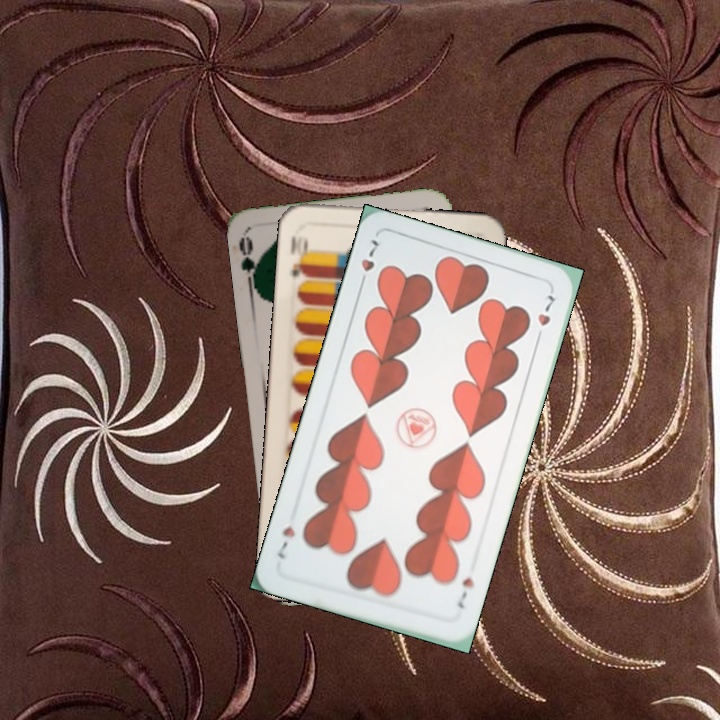E10: (286, 232, 311, 280)
GO: (234, 233, 264, 292)
H7: (355, 235, 381, 291), (452, 573, 477, 611)
